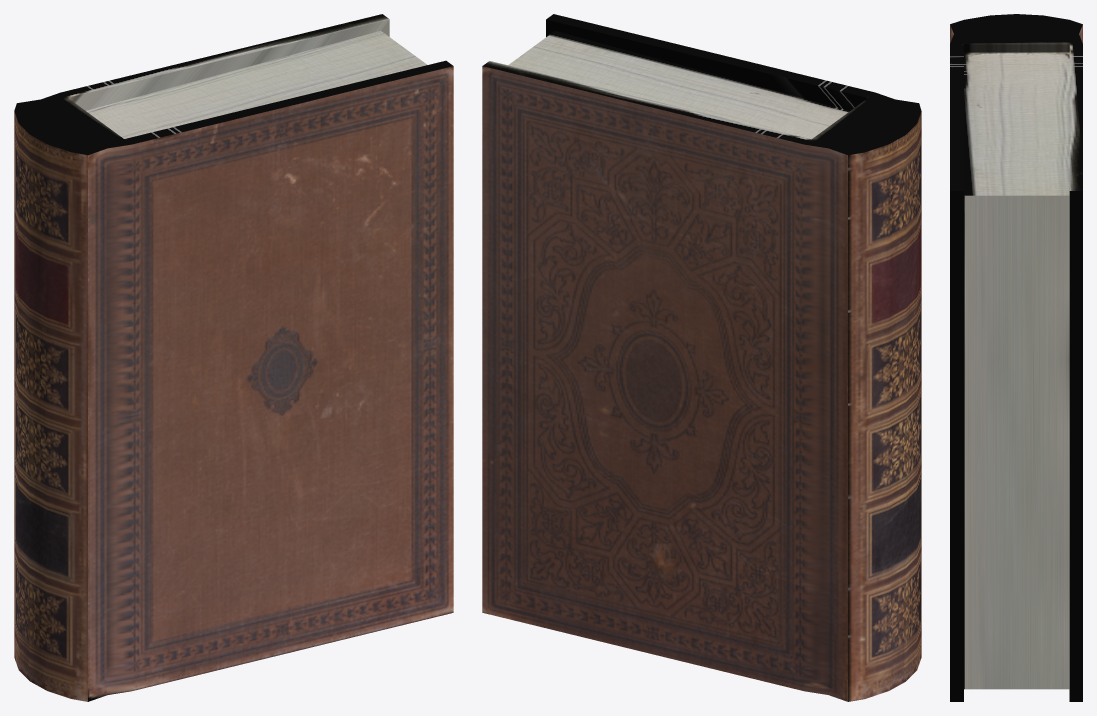
The model's file is Book 1.fbx.
3 renders of one model, left to right at view 1: azimuth 30°, elevation 25°; view 2: azimuth 150°, elevation 25°; view 3: azimuth 270°, elevation 25°, orthographic. The views are drawn at different scales.
Visible parts, largest first — view 1: pCube1; view 2: pCube1; view 3: pCube1.
Part boxes in pixels (<box>): pCube1: <box>14,14,453,701</box>; pCube1: <box>482,14,921,701</box>; pCube1: <box>950,14,1082,701</box>.
Bounding box in the file's own units: 4.55 × 6.12 × 1.44.
Materials: 1 (1 with a texture image).
